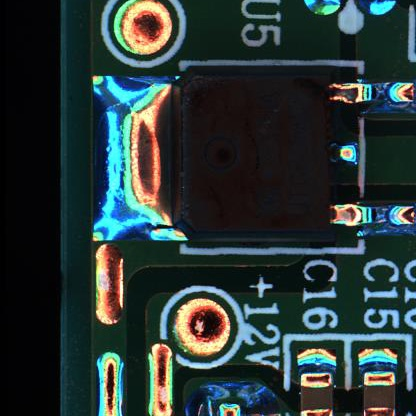spot: (170, 293, 234, 364)
